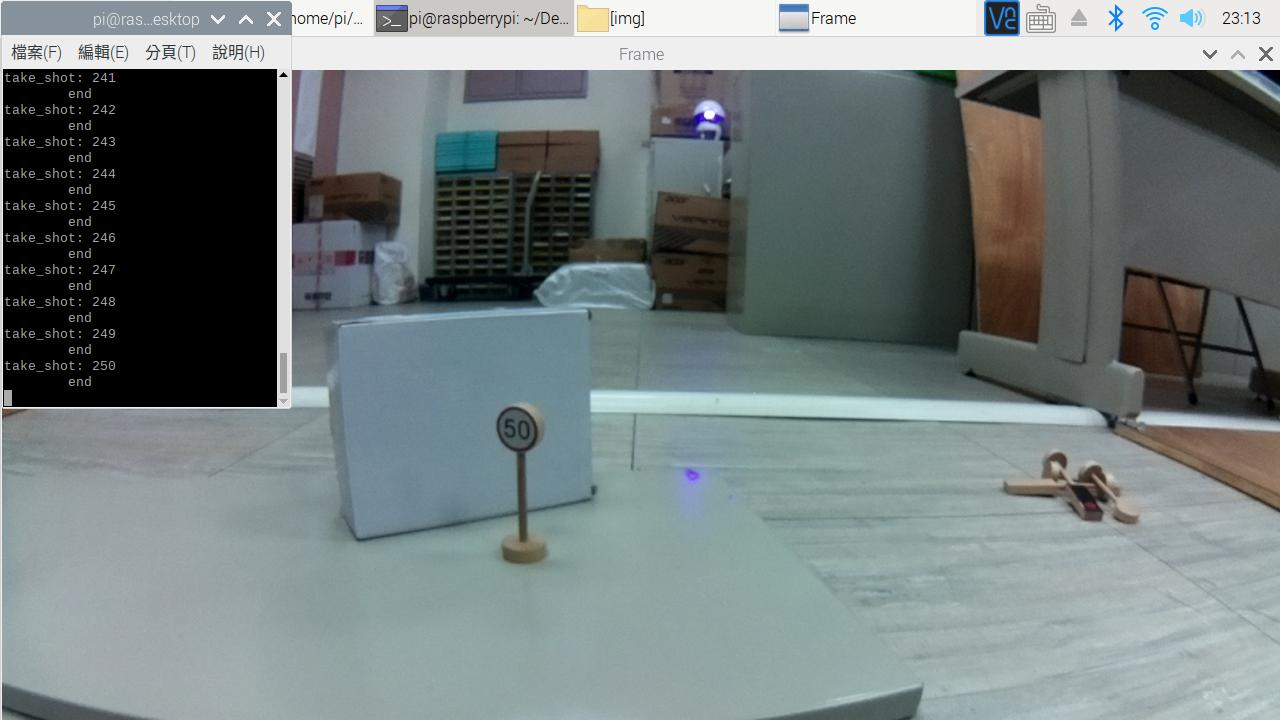Speed50: (489, 403, 557, 472)
